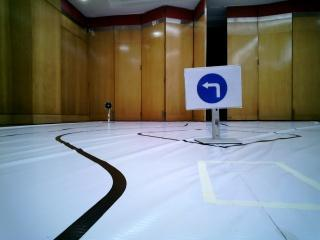left: (184, 67, 241, 107)
